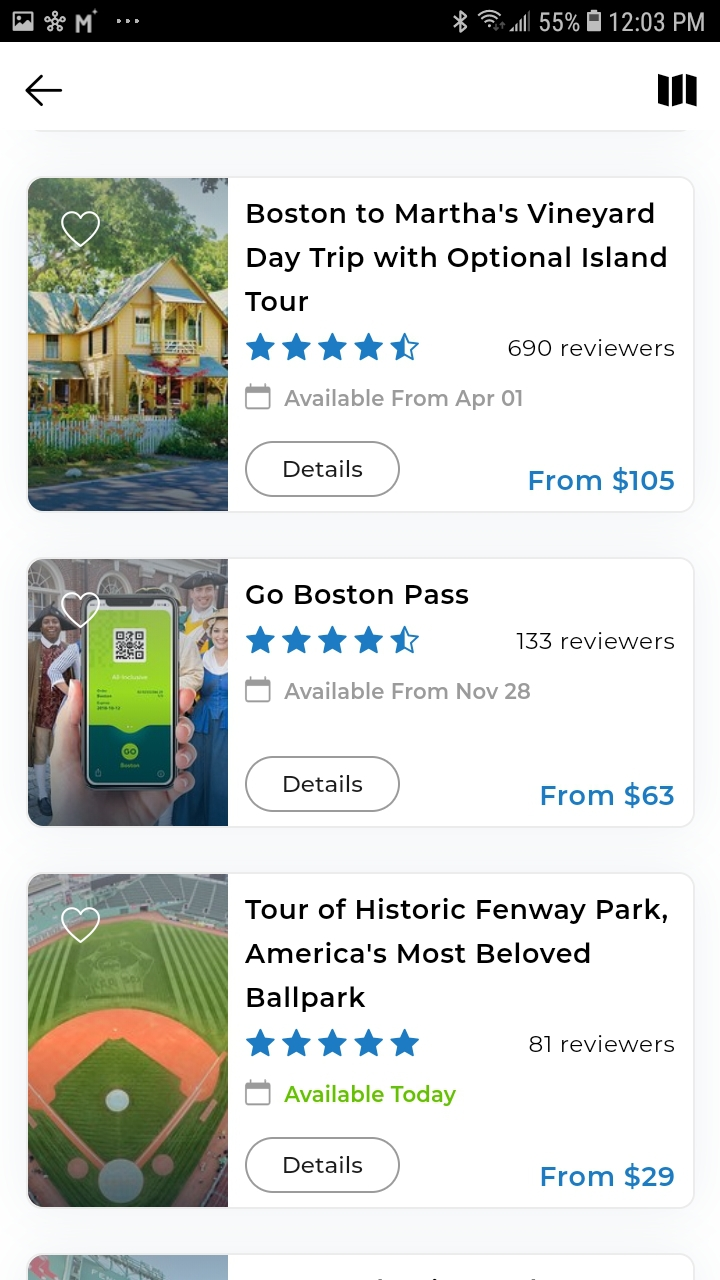Icon: (246, 625, 420, 654), (246, 333, 420, 362), (246, 1028, 420, 1057), (61, 211, 102, 249), (61, 907, 102, 944), (61, 592, 102, 629), (657, 74, 697, 108), (26, 75, 64, 108), (245, 383, 272, 411), (245, 675, 272, 703), (245, 1078, 272, 1106)
Image: (29, 874, 229, 1207), (29, 179, 229, 512), (29, 560, 229, 827), (29, 1255, 229, 1280)
Text: (245, 898, 668, 1013), (245, 202, 667, 313), (284, 388, 523, 411), (284, 681, 531, 700), (246, 584, 469, 605), (284, 1084, 457, 1107), (529, 467, 675, 494), (541, 1161, 673, 1189), (541, 782, 674, 809), (508, 339, 675, 357), (516, 632, 674, 650), (529, 1035, 675, 1053)
TextButton: (245, 441, 401, 498), (245, 756, 401, 813), (245, 1137, 401, 1194)
UpperTaskBar: (1, 1, 720, 43)
